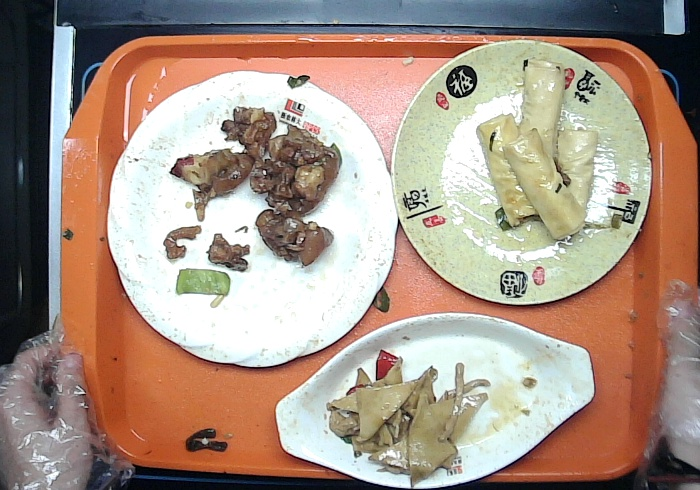NLDX-Bai_Zhe_Yuan_Pan: (103, 66, 401, 370)
NLDX-Fu_Zi_Yuan_Pan: (389, 37, 656, 308)
NLDX-Yu_Pan: (272, 310, 598, 490)
